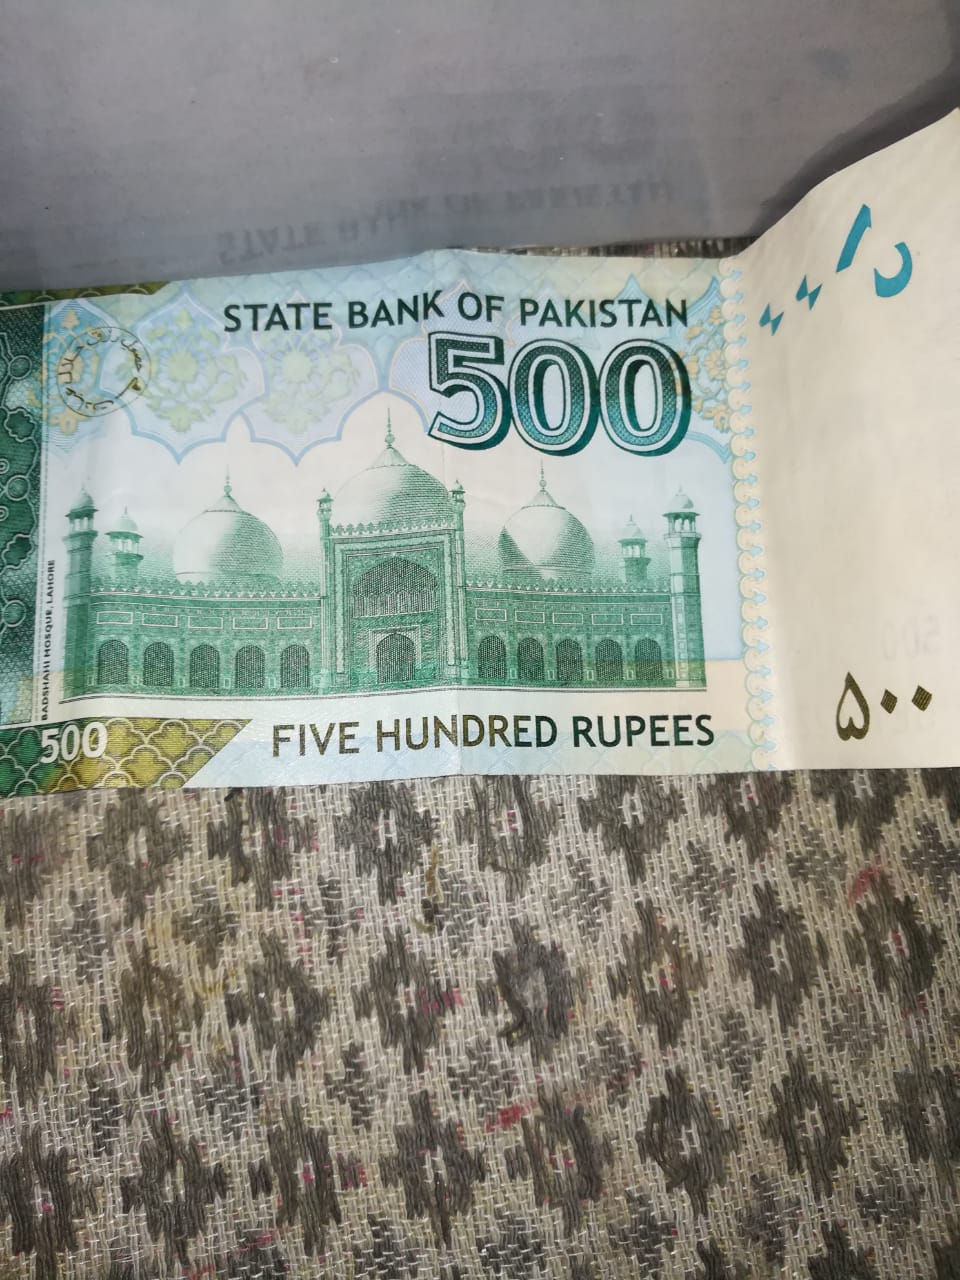500 rupee: (20, 98, 960, 866)
